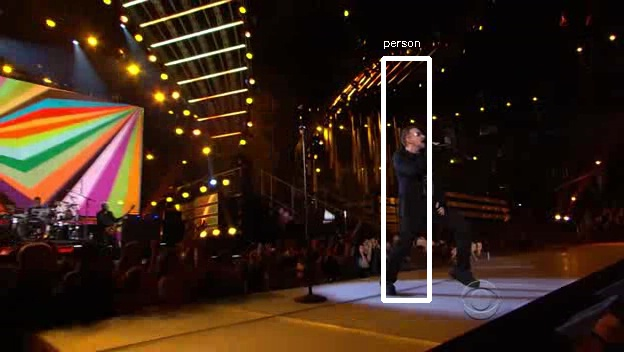person: (391, 131, 453, 242), (388, 131, 450, 242), (394, 131, 456, 242), (391, 128, 453, 239), (391, 134, 453, 245)
target_negative: (513, 24, 613, 299), (52, 113, 584, 153), (139, 191, 349, 241), (520, 332, 612, 352), (498, 190, 571, 199)
